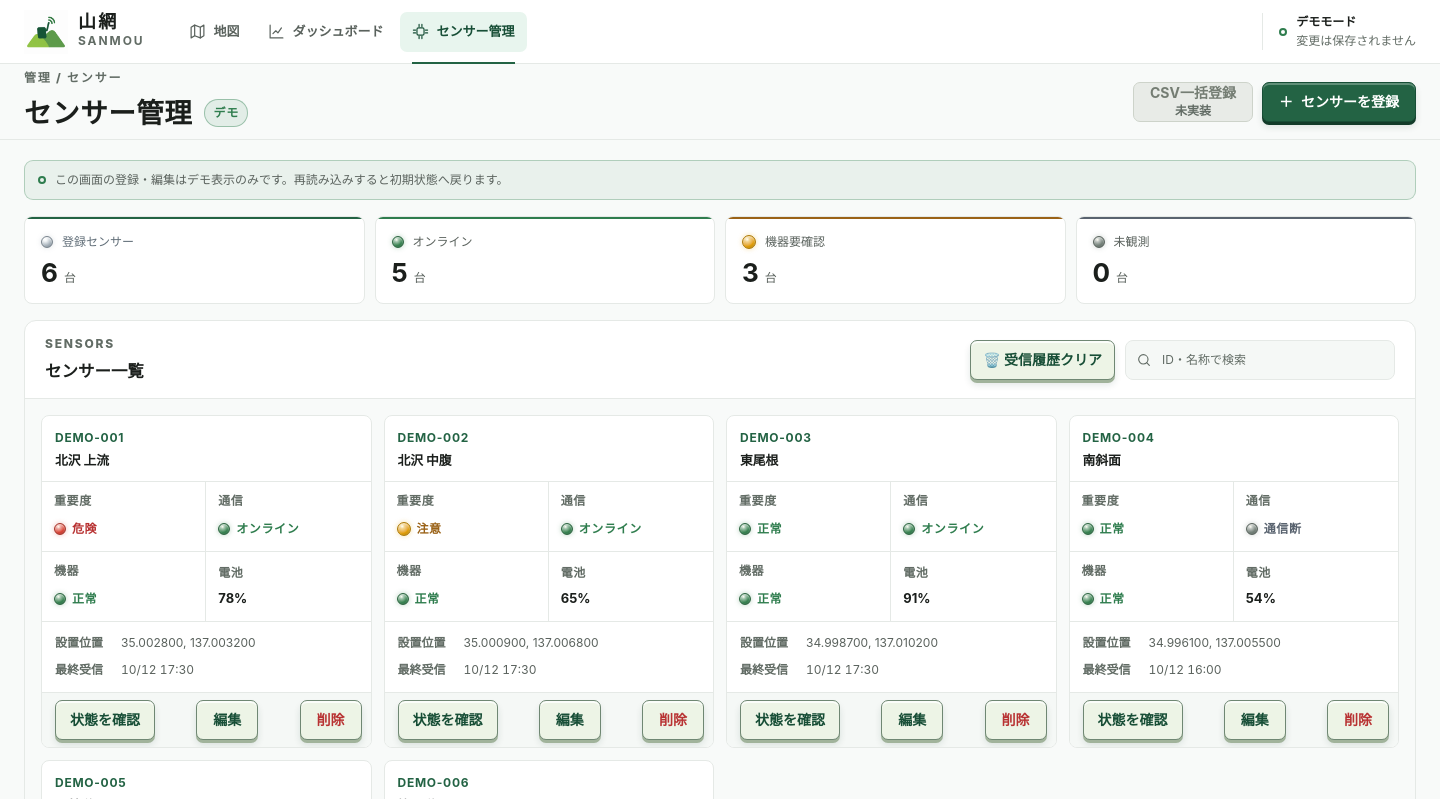
Test: SensorManagement › 未観測のデモセンサーを登録する
Click the button "＋ センサーを登録" at coordinates (1339, 102), box 1262,82 -> 1416,122
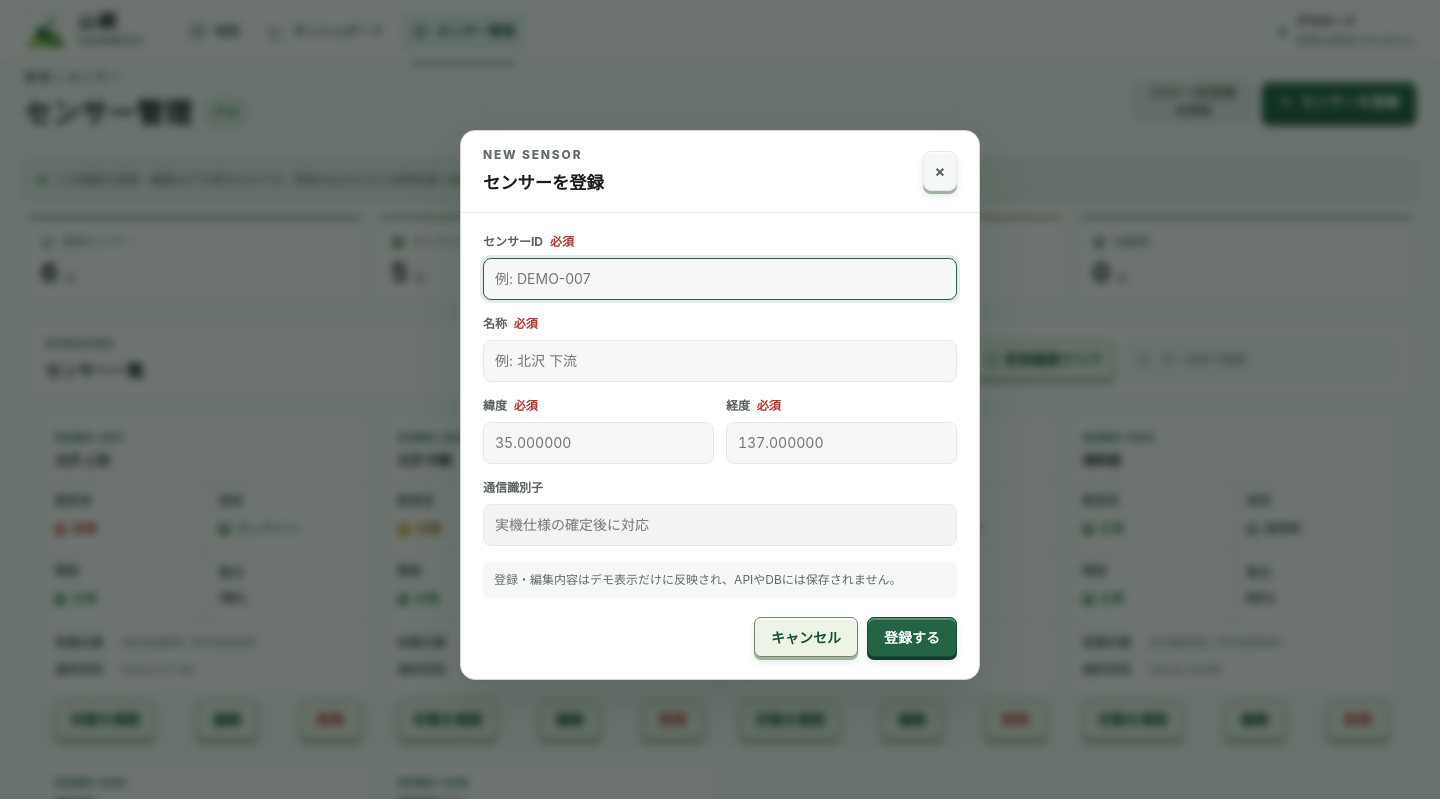
Type "DEMO-007" into the field labelled "センサーID 必須" at coordinates (720, 279), box 483,258 -> 957,300
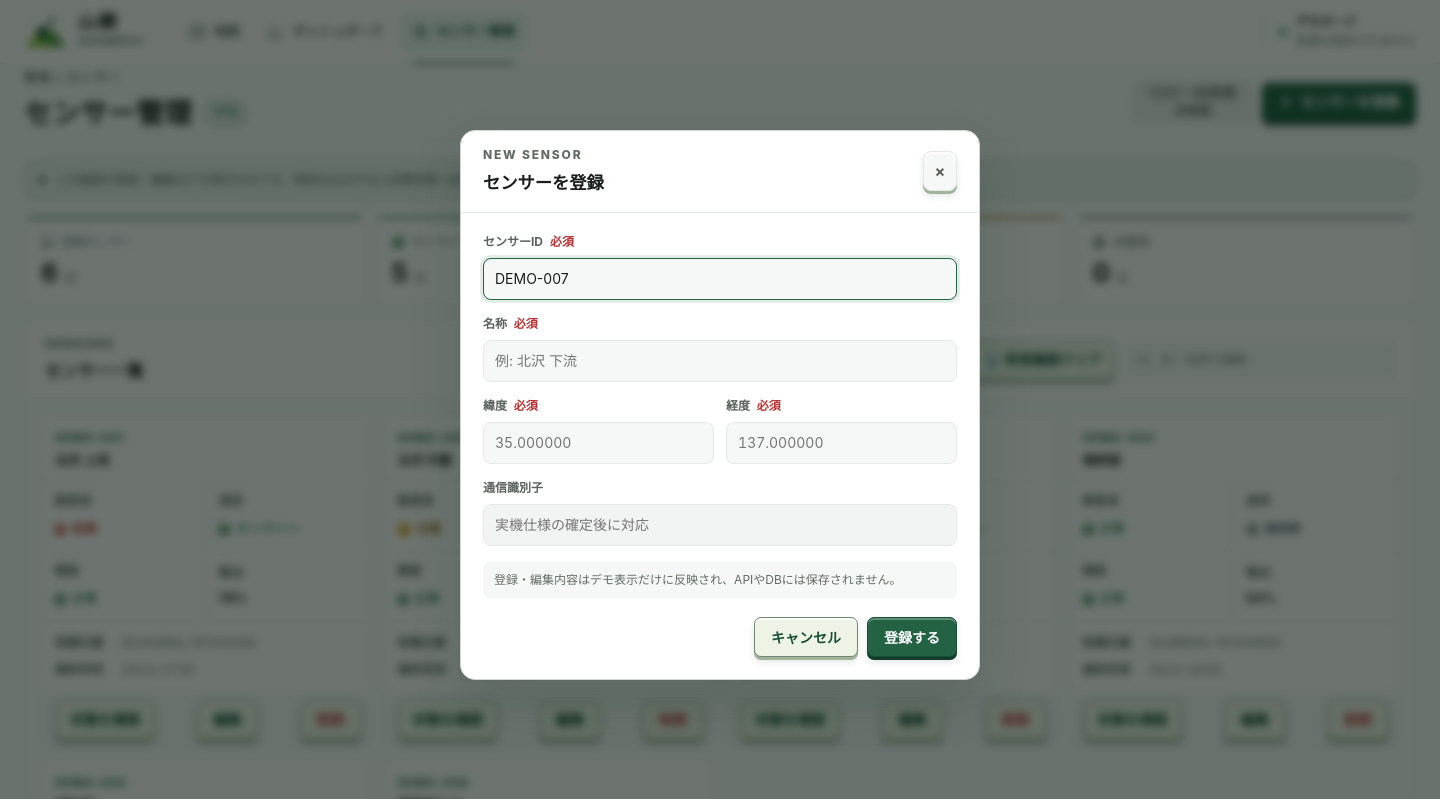
Type "北沢 下流" into the field labelled "名称 必須" at coordinates (720, 361), box 483,340 -> 957,382
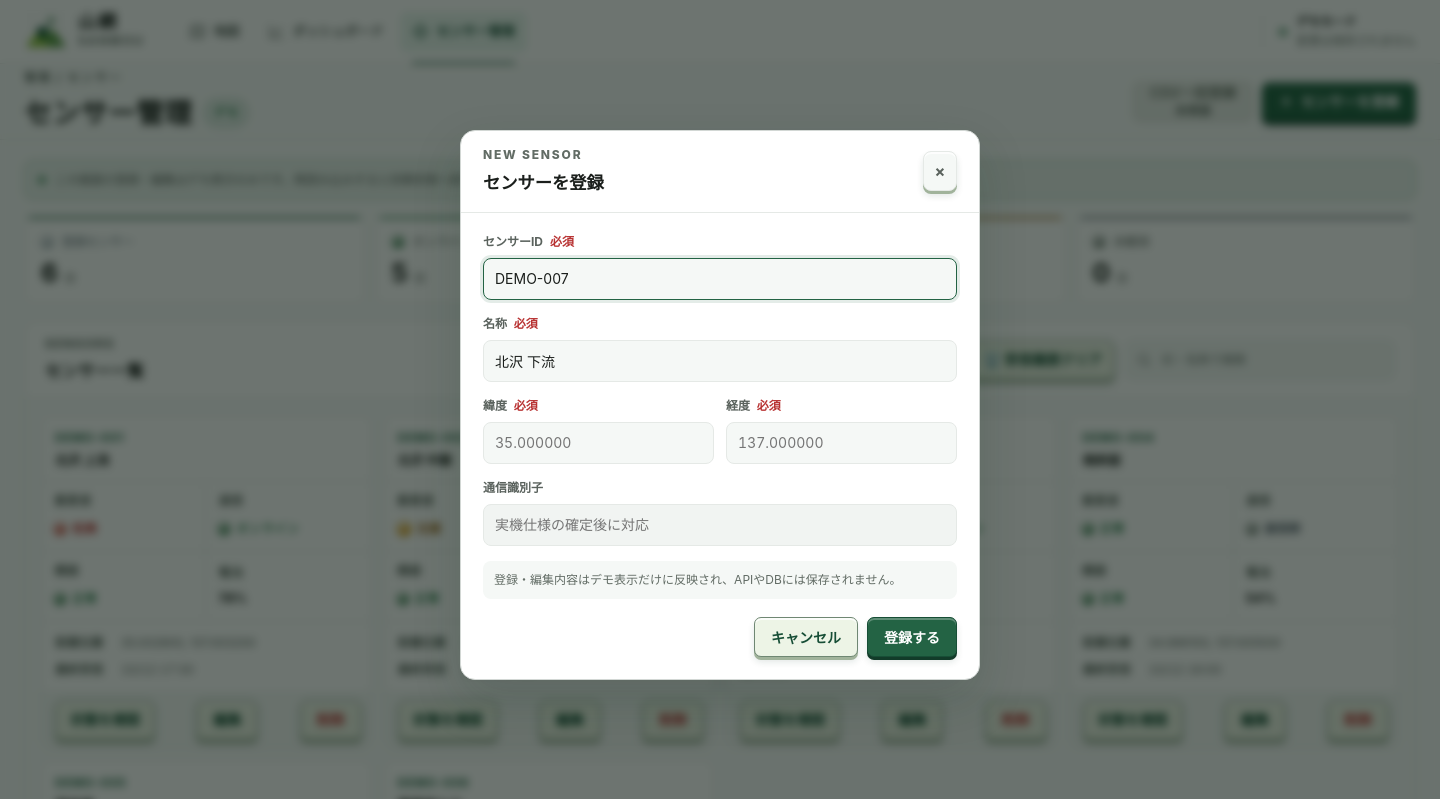
Type "35.0042" into the number field labelled "緯度 必須" at coordinates (598, 443), box 483,422 -> 714,464
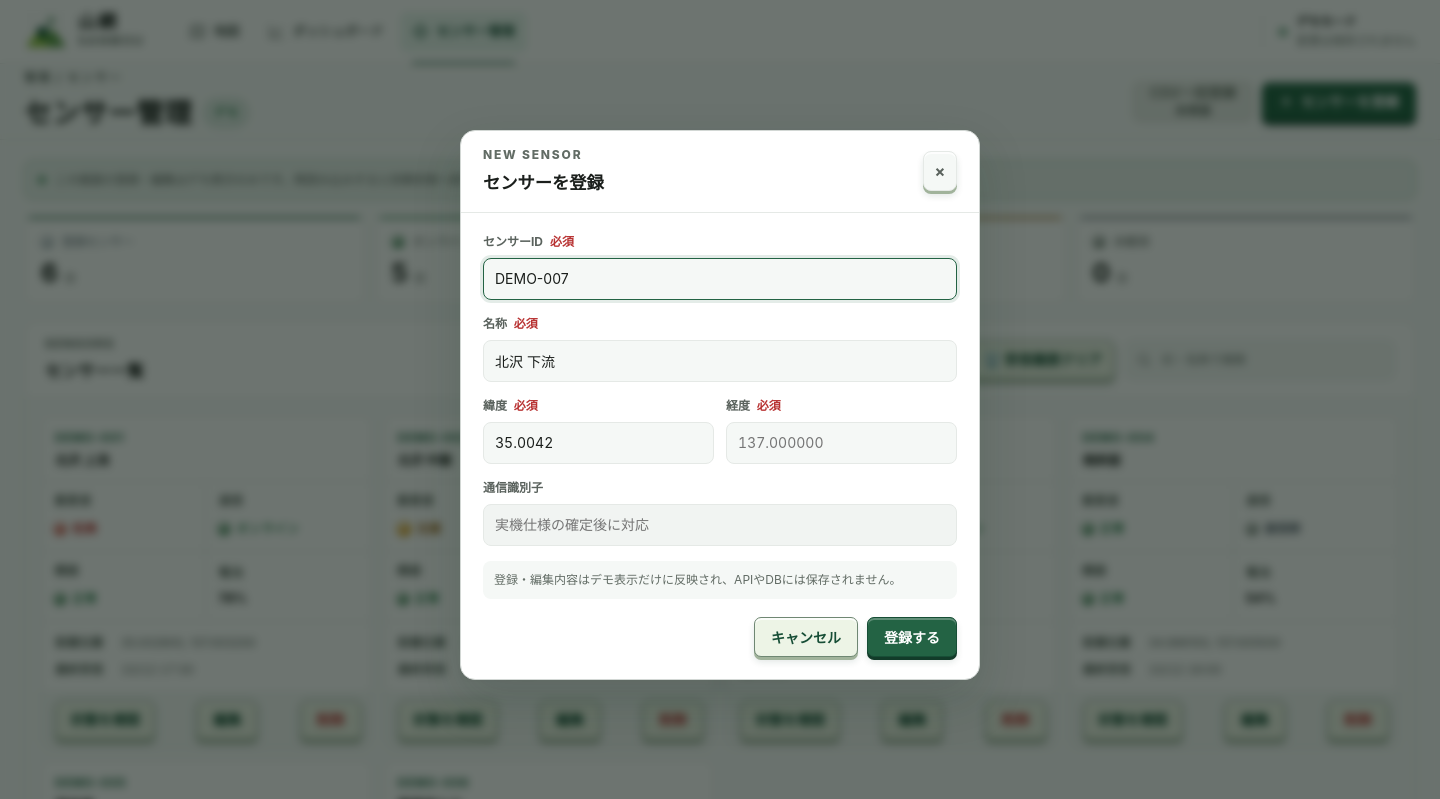
Type "137.0091" into the number field labelled "経度 必須" at coordinates (842, 443), box 726,422 -> 957,464
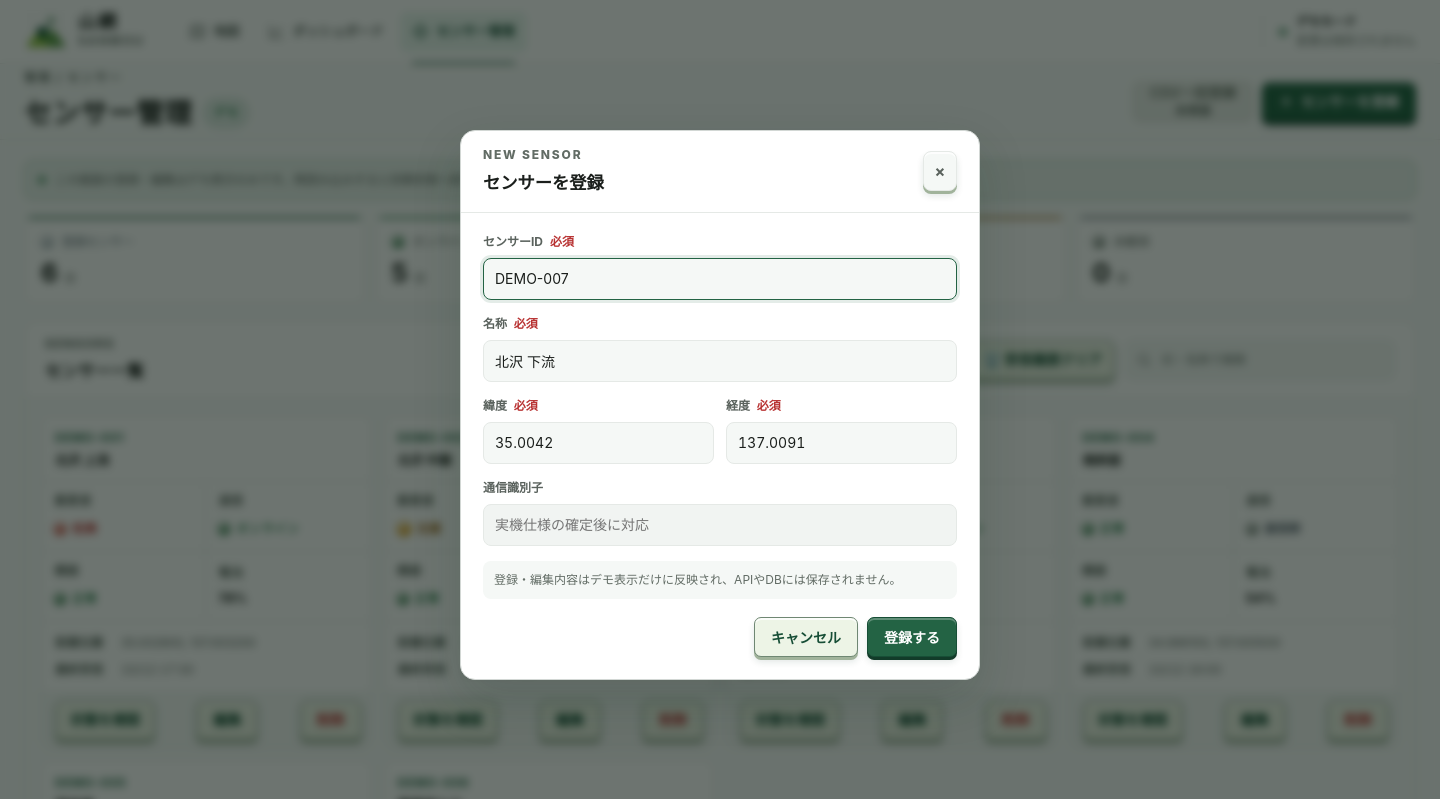
Click the button "登録する" at coordinates (912, 637), box 867,617 -> 957,657
(page scrolled)
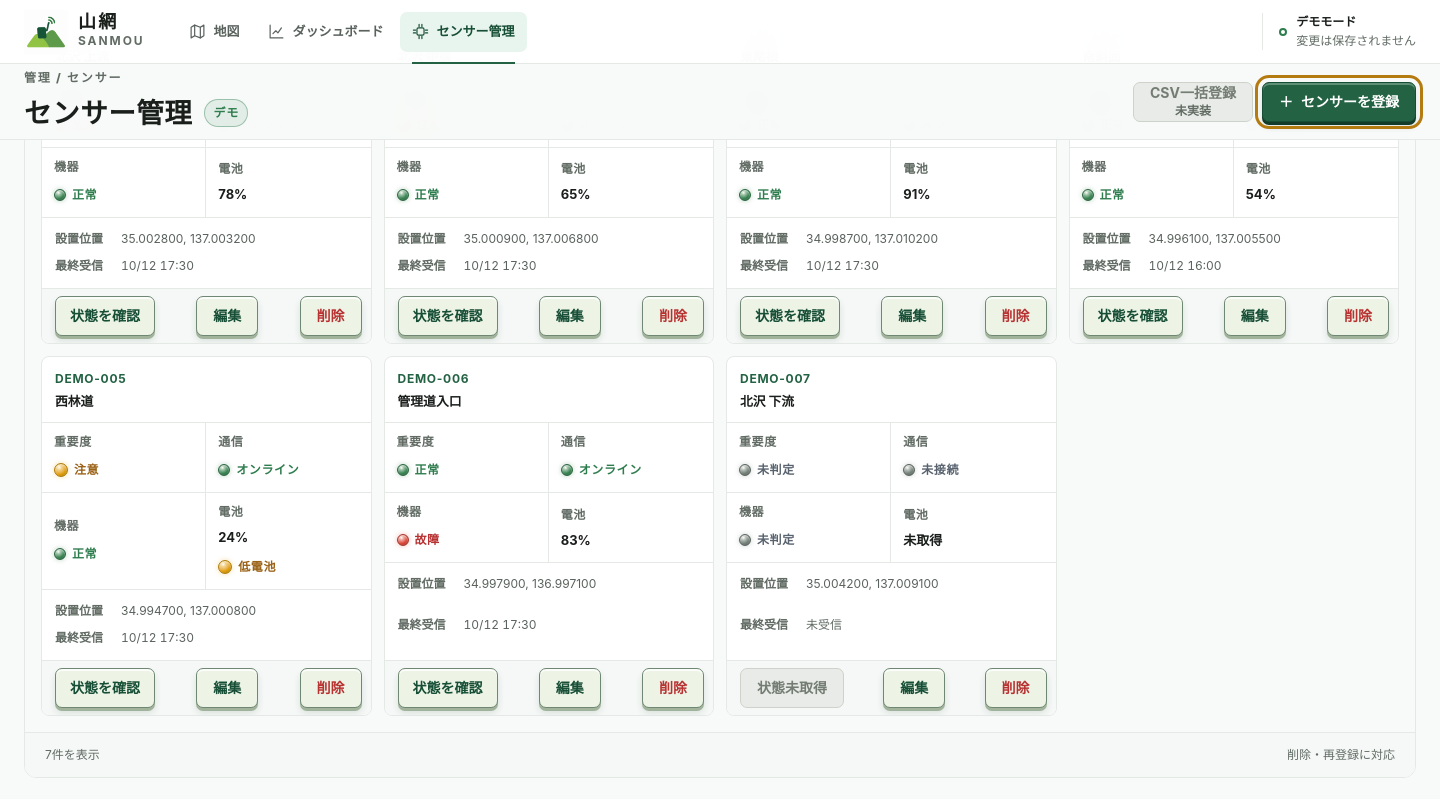
expect the text "7件を表示" is shown: met, box 45,746 -> 100,764
expect the list item "DEMO-007" is shown: met, box 740,371 -> 811,386
expect the text "未判定" is shown 2 times: met, box 739,458 -> 795,482; 739,528 -> 795,552
